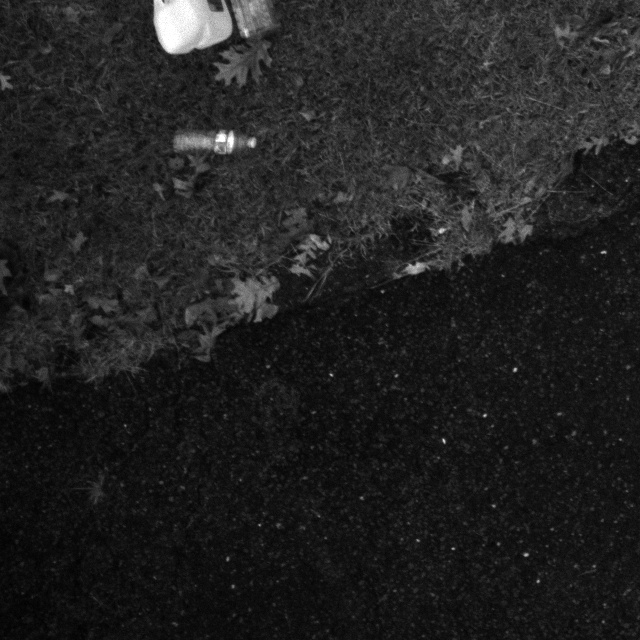bottle: (163, 116, 262, 157)
can: (143, 0, 236, 55)
